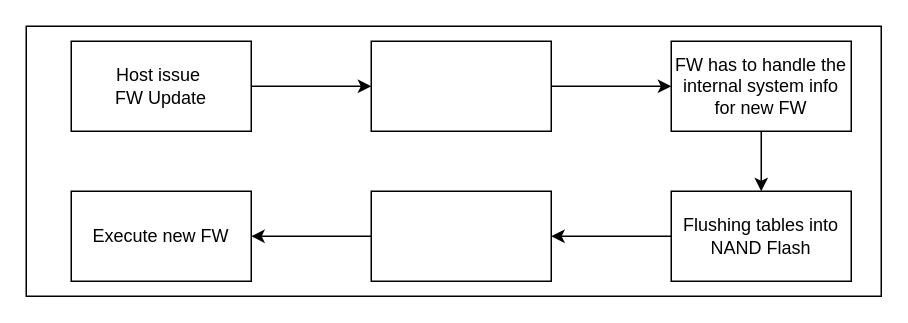
Some shapes in this 908 by 323 pixel diagram are drawn without their labels. Here are the shapes that lost their labels. From the top down, the centre of each, then its label:
At [460,85]: "FW has to check the new FW and save it into NAND Flash".
At [460,235]: "ROM Code load new FW".
